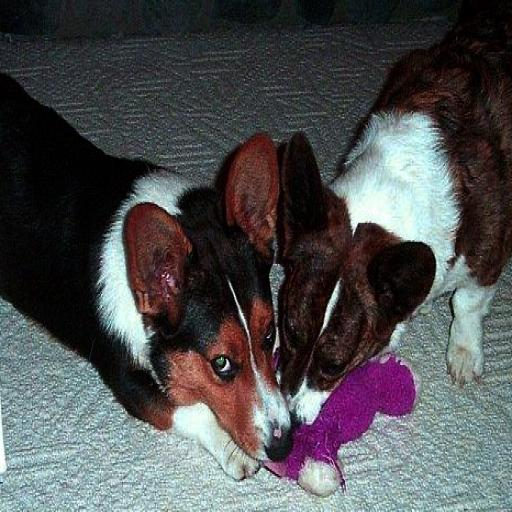dog_face: (123, 142, 286, 477), (276, 122, 432, 420)
